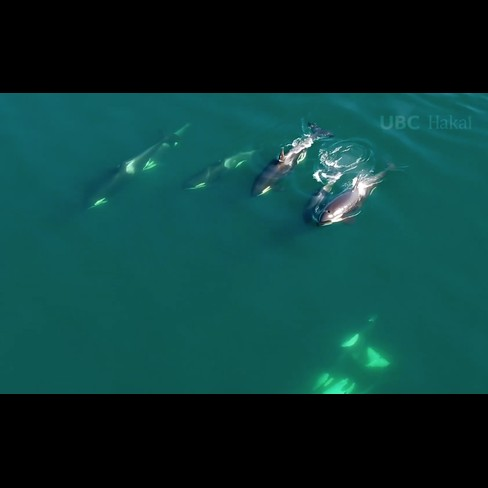orca: (68, 111, 200, 222), (314, 146, 410, 239), (246, 114, 334, 207), (178, 136, 279, 192), (324, 342, 399, 394)
